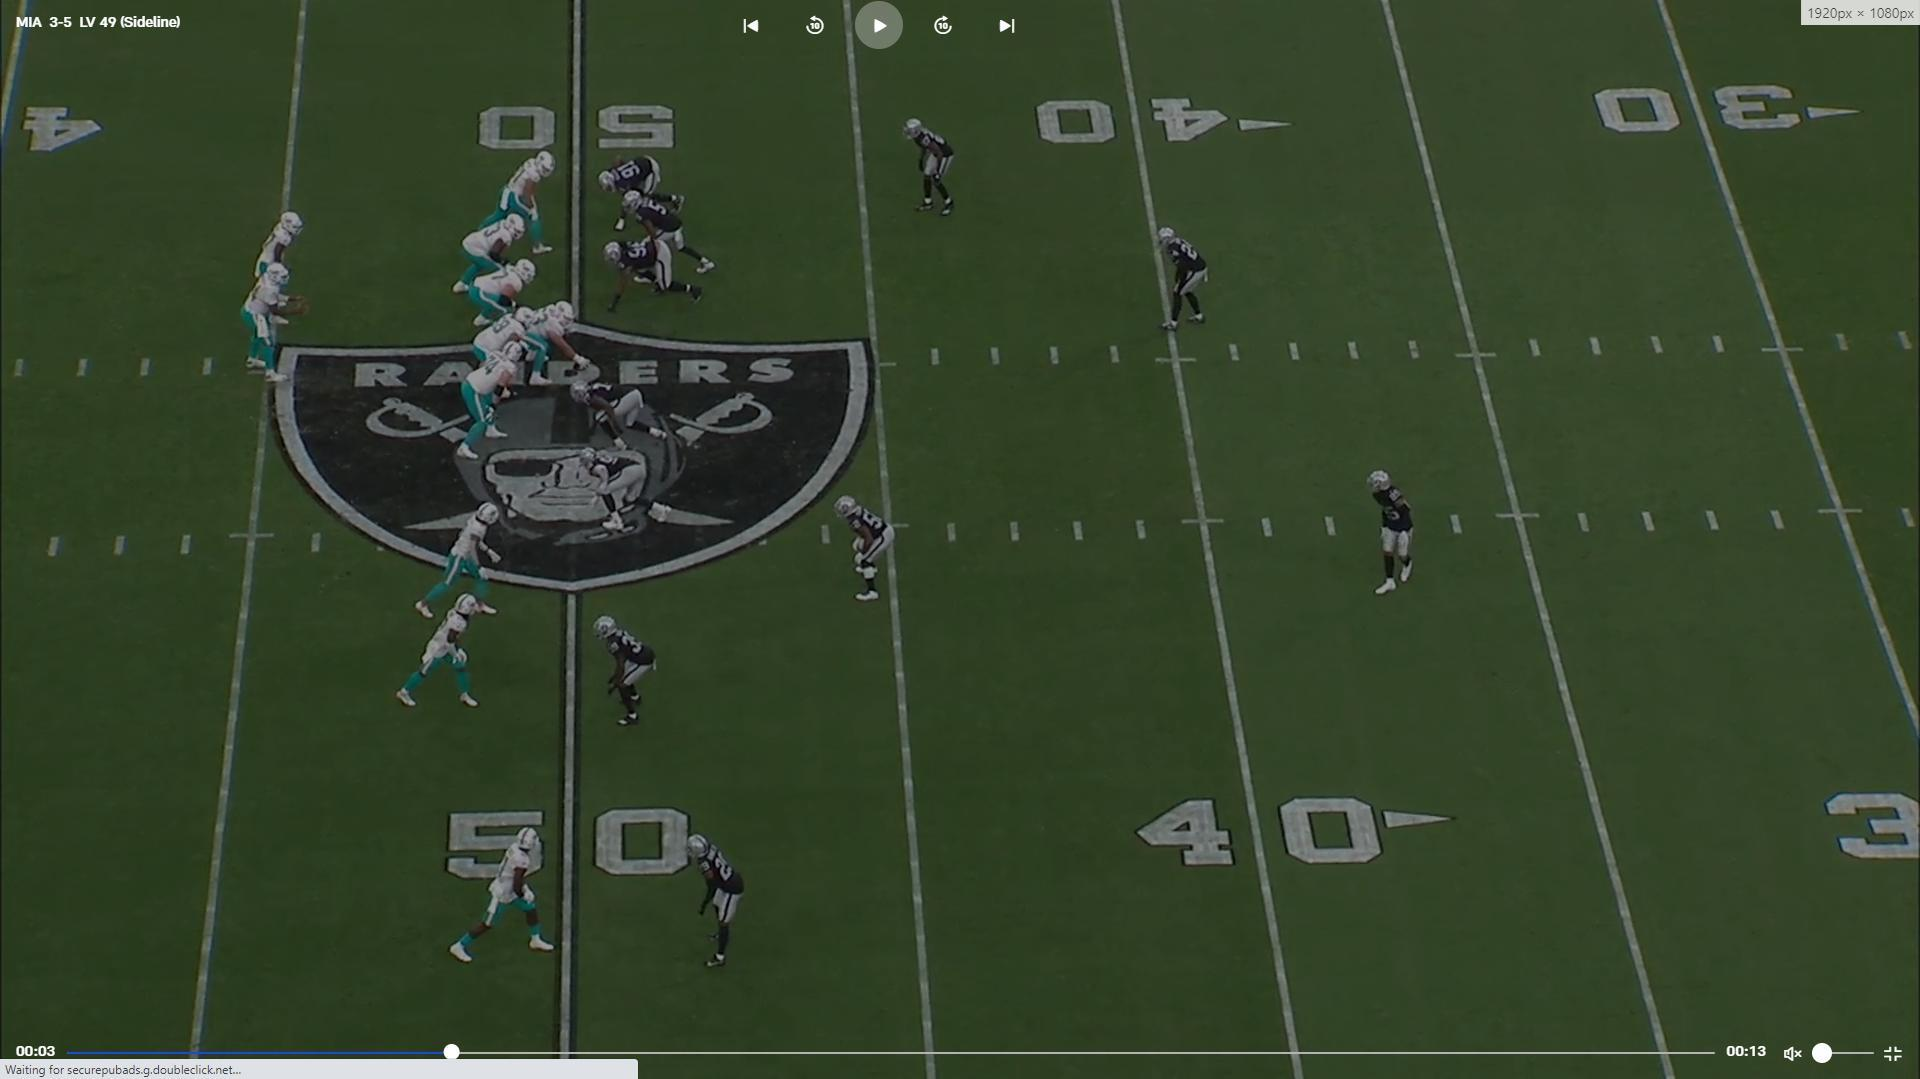defense: (680, 826, 748, 975), (611, 189, 719, 281), (575, 375, 683, 456), (578, 447, 674, 536), (595, 612, 661, 732), (599, 239, 707, 311), (1371, 463, 1428, 598), (833, 495, 897, 611), (1156, 224, 1213, 335), (905, 117, 963, 223), (597, 153, 686, 218)
oline: (451, 346, 533, 467), (508, 298, 595, 385), (450, 210, 533, 299), (475, 306, 545, 392), (473, 257, 543, 332)
qb: (239, 264, 297, 383)
skill: (448, 830, 564, 968), (407, 487, 516, 621), (388, 586, 492, 716), (472, 148, 555, 253), (264, 208, 311, 317)
